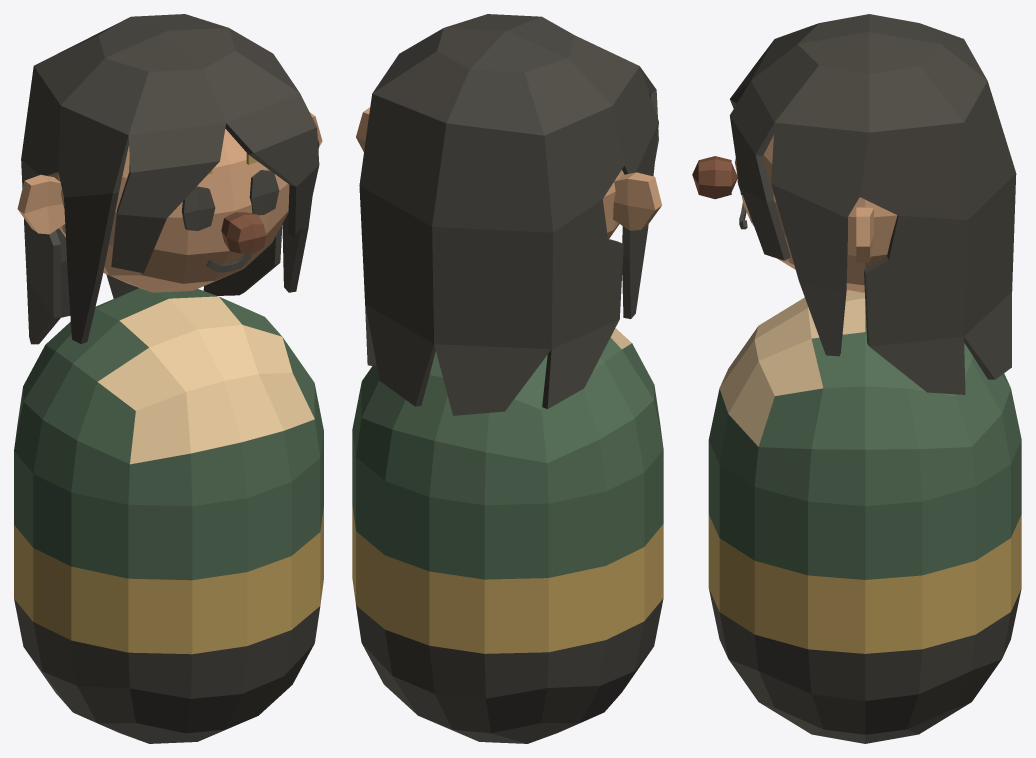
Rendered from Player Cewek Tua.fbx.
3 renders of one model, left to right at view 1: azimuth 30°, elevation 25°; view 2: azimuth 150°, elevation 25°; view 3: azimuth 270°, elevation 25°, orthographic.
Visible parts, largest first — view 1: Tubuh Cewek Tua, Kepala Cewek Tua; view 2: Tubuh Cewek Tua, Kepala Cewek Tua; view 3: Tubuh Cewek Tua, Kepala Cewek Tua.
Boxes of the visible parts, x1=… form: Tubuh Cewek Tua: x1=14, y1=288, x2=323, y2=743; Kepala Cewek Tua: x1=17, y1=14, x2=322, y2=344; Tubuh Cewek Tua: x1=352, y1=328, x2=663, y2=743; Kepala Cewek Tua: x1=356, y1=14, x2=661, y2=415; Tubuh Cewek Tua: x1=708, y1=290, x2=1021, y2=743; Kepala Cewek Tua: x1=692, y1=14, x2=1016, y2=394.
Bounding box in the file's own units: 0.844 × 1.89 × 0.8084.
1 material, 1 textured.
